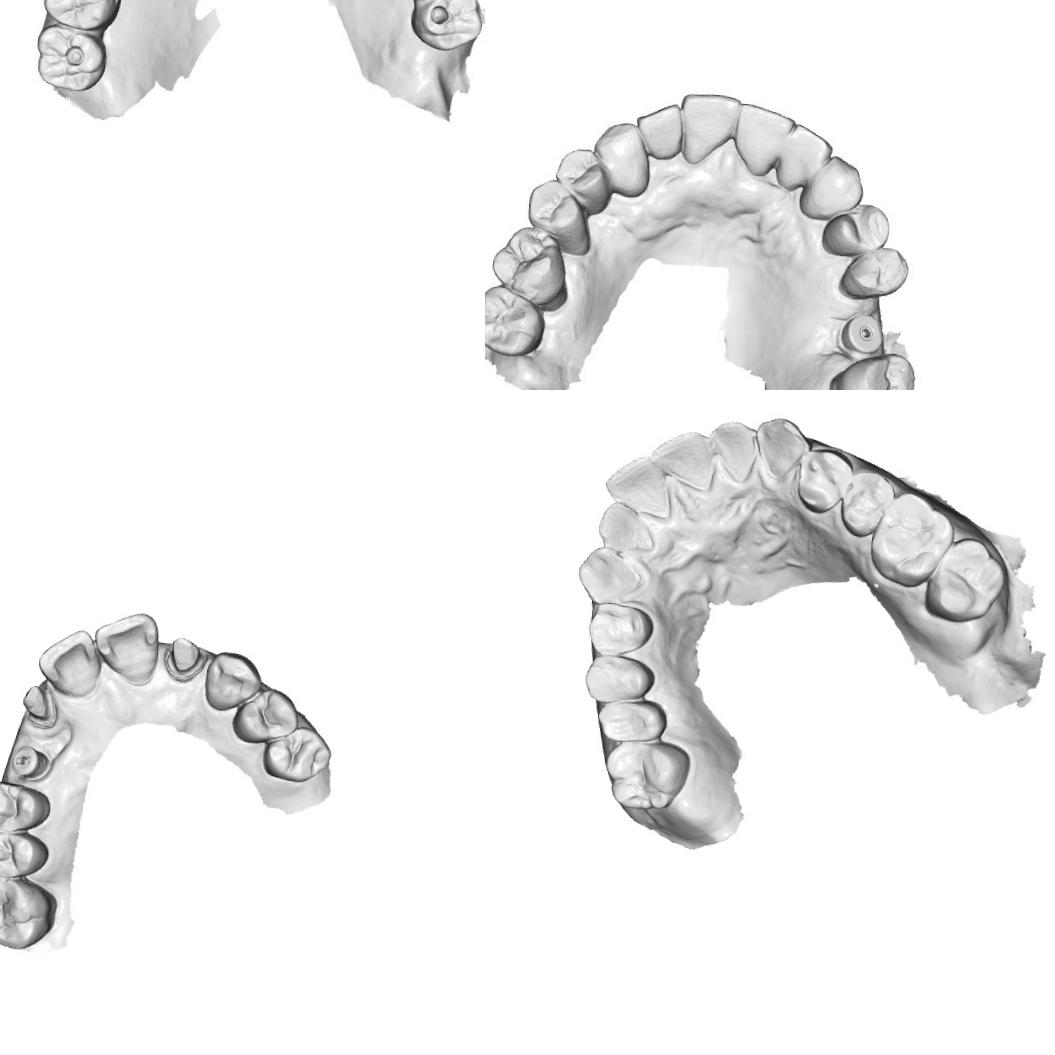canine: (794, 152, 866, 225), (589, 118, 653, 200), (571, 542, 648, 608), (750, 412, 812, 482), (199, 644, 258, 712)
crown: (8, 674, 66, 732), (161, 630, 210, 684)
implant: (841, 309, 886, 354)
implant_minus: (7, 740, 49, 782)
incisor: (90, 606, 168, 684), (600, 450, 674, 526), (672, 88, 740, 163), (36, 625, 102, 702), (646, 426, 719, 494), (728, 96, 794, 170), (704, 416, 761, 487), (594, 498, 657, 555), (781, 121, 834, 187), (636, 100, 684, 165)
molar: (862, 488, 956, 592), (922, 532, 1009, 628), (598, 734, 691, 814), (486, 221, 569, 308), (36, 26, 110, 94), (0, 870, 59, 954), (403, 0, 484, 59), (485, 284, 546, 359), (830, 348, 921, 390), (593, 696, 669, 746), (37, 0, 123, 33)
premolar: (838, 240, 912, 306), (833, 465, 896, 540), (522, 176, 588, 246), (583, 598, 656, 660), (233, 682, 300, 748), (819, 202, 888, 265), (793, 446, 855, 516), (262, 724, 330, 786), (579, 650, 657, 704), (548, 148, 612, 207), (0, 777, 57, 838), (0, 827, 54, 880)
